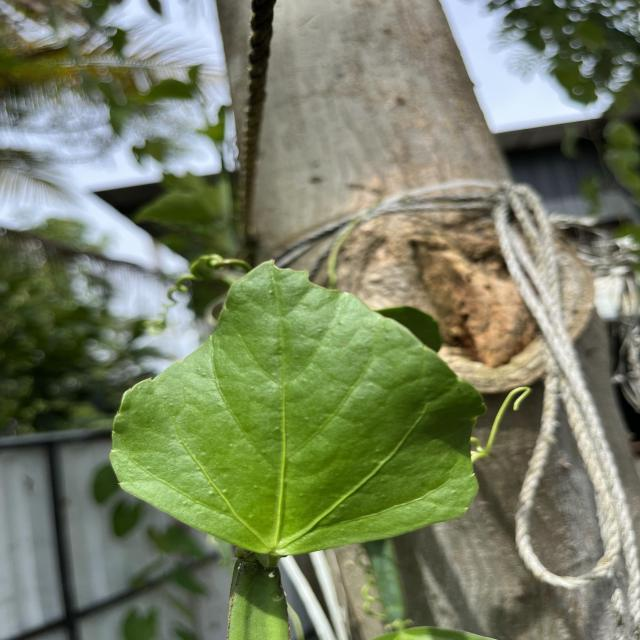Cissus quadrangularis: (105, 255, 491, 562)
